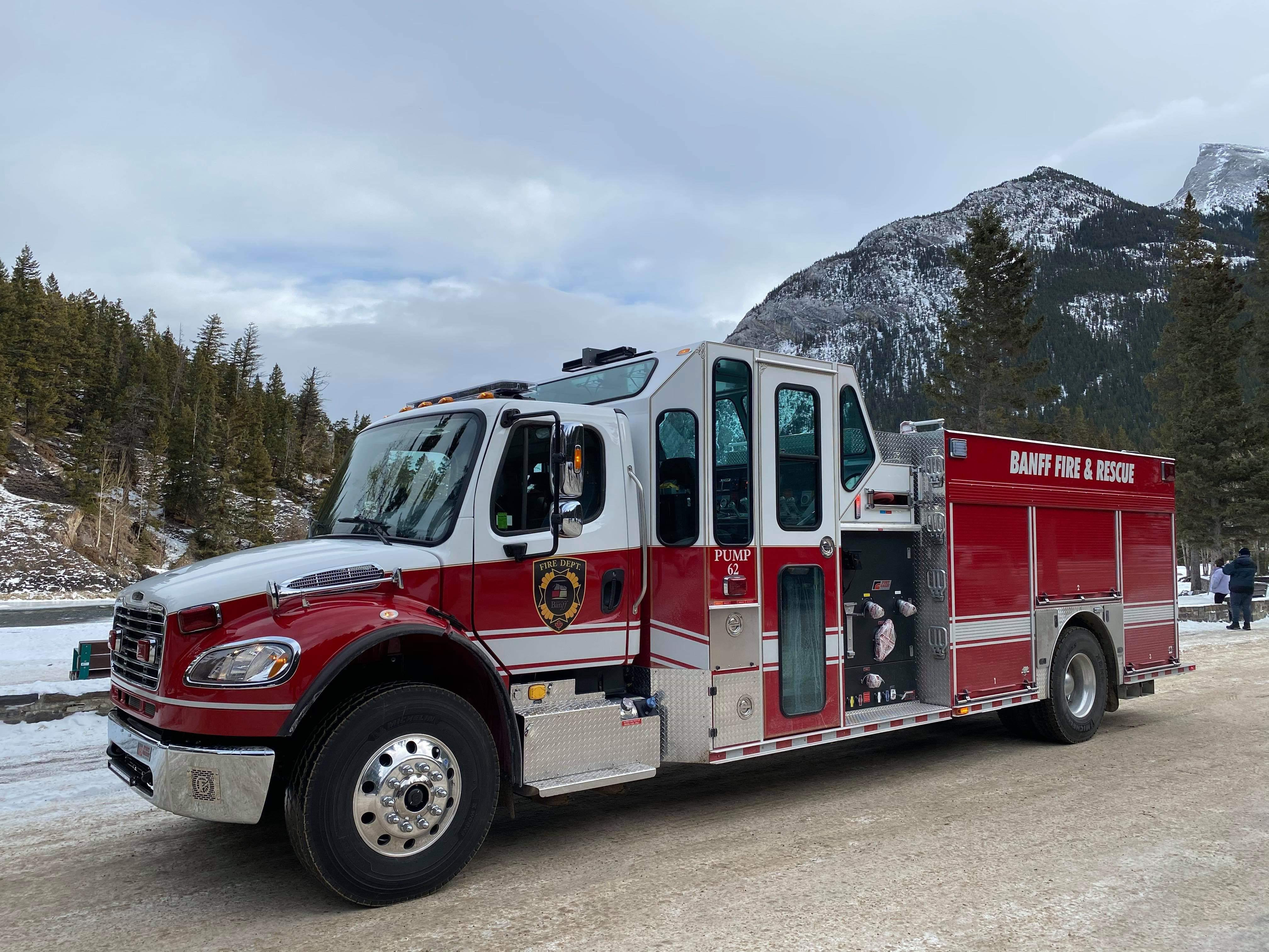Fire-engine: (101, 339, 1196, 909)
